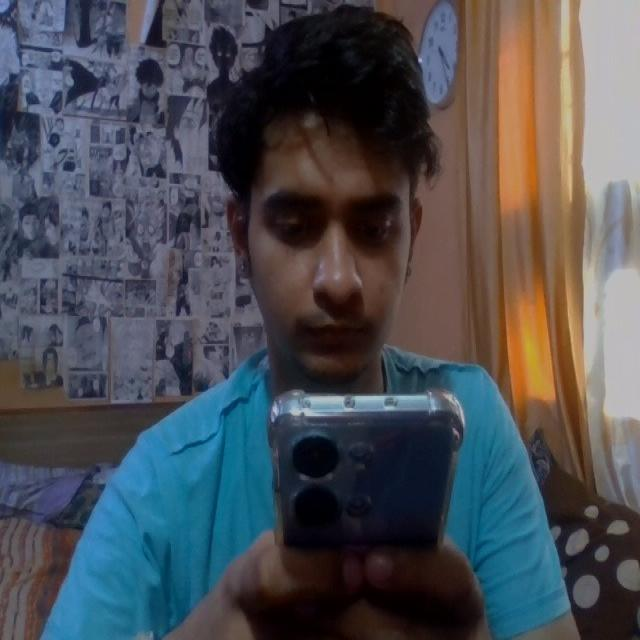phone: (265, 388, 465, 566)
using-phone: (49, 17, 582, 640)
